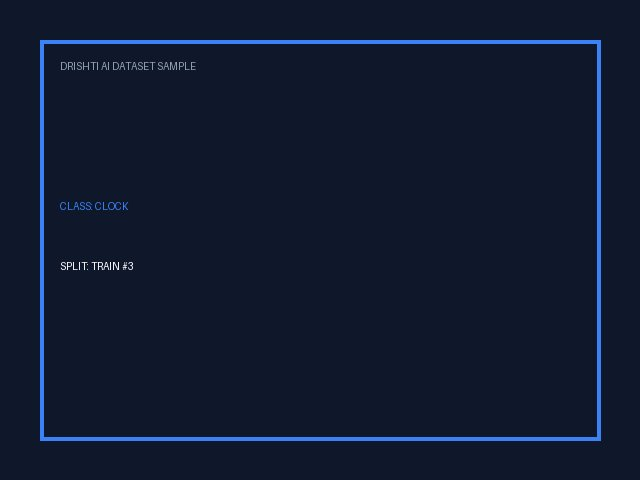plate: (128, 96, 512, 384)
